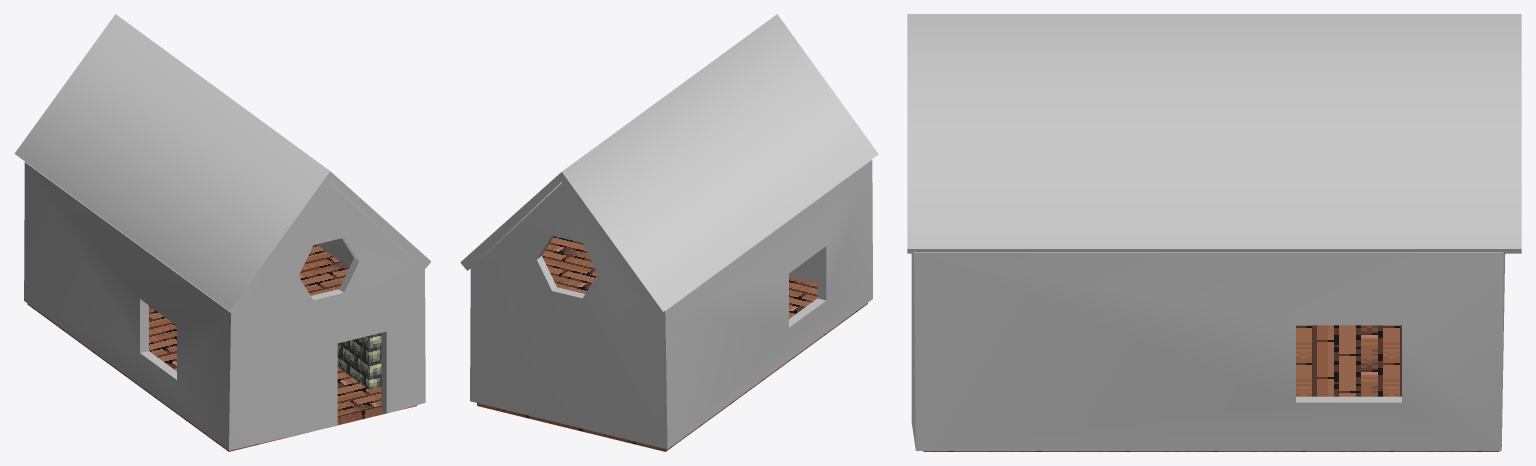
File: house1.obj
3 views of the same model, side by side, from view 1: azimuth 30°, elevation 25°; view 2: azimuth 150°, elevation 25°; view 3: azimuth 270°, elevation 25° (orthographic). The views are drawn at different scales.
Visible parts, largest first — view 1: muren, dak, vloeronder, trappen_zijlkant, vloerboven; view 2: muren, dak, vloerboven, vloeronder; view 3: dak, muren, vloeronder.
Boxes of the visible parts, x1,y1,x2,y2 form: muren: (24,162,425,450); dak: (14,14,431,315); vloeronder: (27,303,416,451); trappen_zijlkant: (337,333,381,389); vloerboven: (298,244,348,295); muren: (470,159,872,449); dak: (460,14,878,316); vloerboven: (542,236,597,293); vloeronder: (477,276,867,451); dak: (907,14,1521,253); muren: (911,252,1505,450); vloeronder: (923,325,1499,451).
Size of the model in its own units: 7.59 by 9.36 by 13.95.
